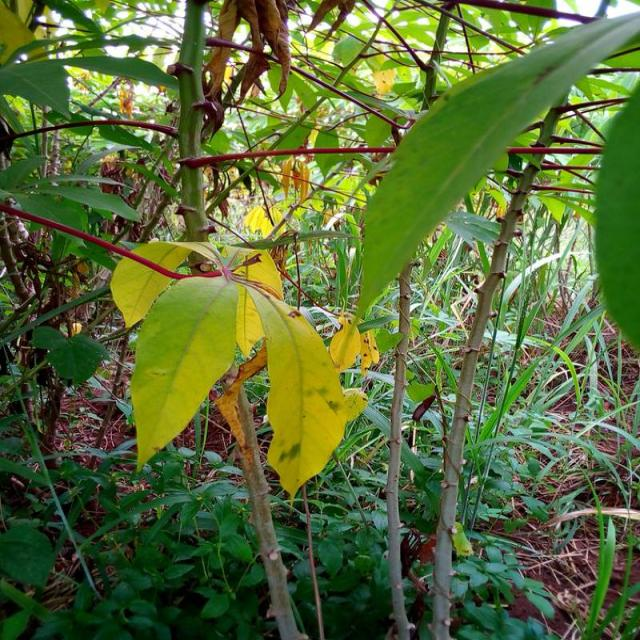cassava leaf: (354, 10, 640, 328), (244, 282, 352, 498), (130, 271, 240, 471), (594, 76, 640, 354)
